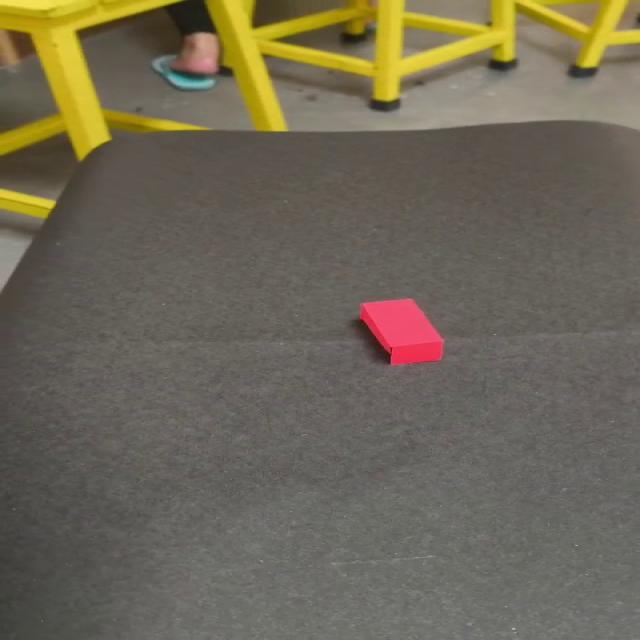red block: (357, 297, 444, 365)
